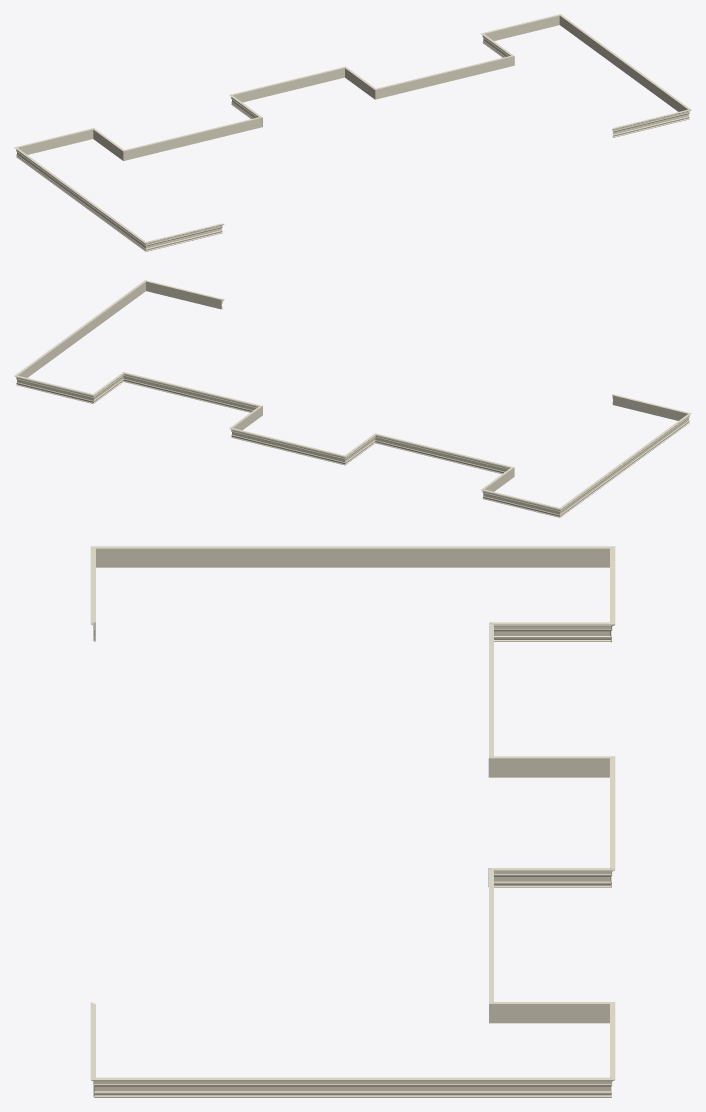
File: CorniceTrim2.glb
3 renders of one model, top to bottom at view 1: azimuth 30°, elevation 25°; view 2: azimuth 150°, elevation 25°; view 3: azimuth 270°, elevation 25°, orthographic. The views are drawn at different scales.
Visible parts, largest first — view 1: Cornice Trim.001; view 2: Cornice Trim.001; view 3: Cornice Trim.001.
Part boxes in pixels (x1,y1,x2,y2): Cornice Trim.001: (14, 14, 691, 251); Cornice Trim.001: (14, 280, 691, 517); Cornice Trim.001: (90, 546, 615, 1097).
Bounding box in the file's own units: 59.53 × 0.9998 × 24.73.
